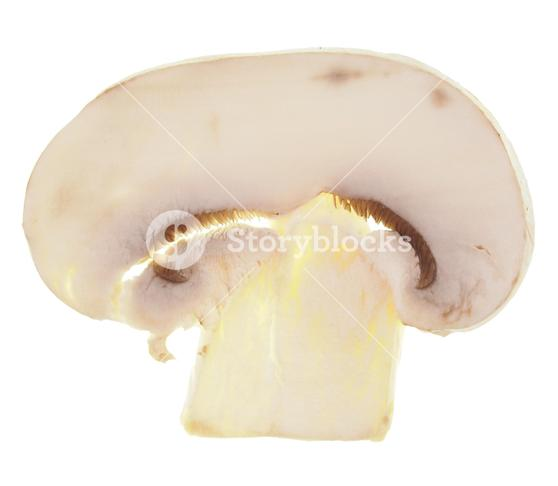champignon: (33, 44, 537, 443)
